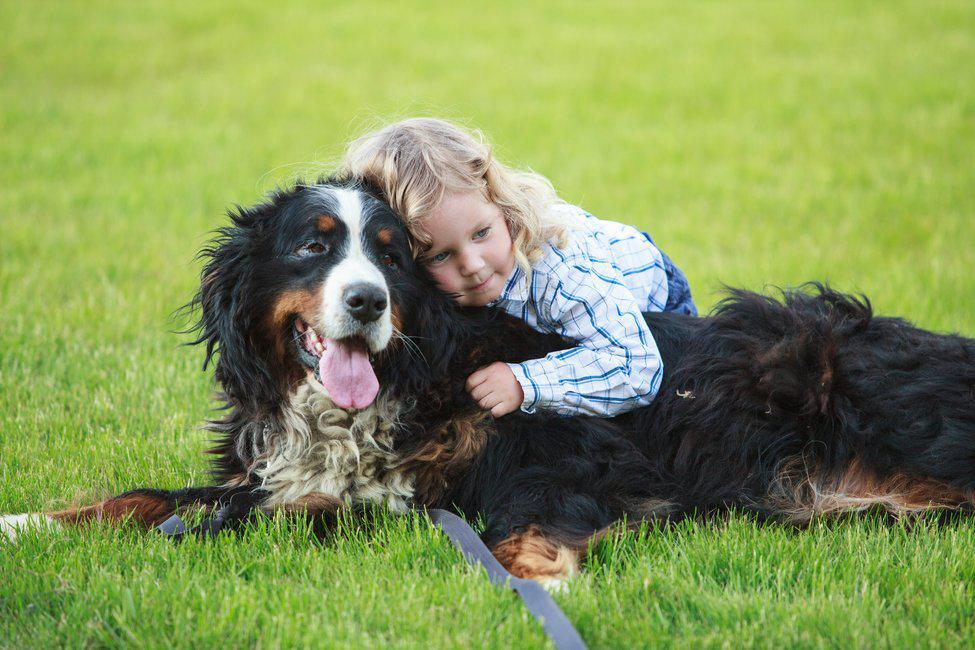child: (358, 112, 709, 403)
